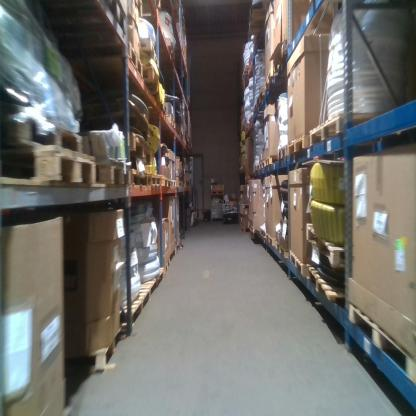pallet: (348, 301, 415, 384), (18, 145, 97, 185), (67, 326, 122, 374), (309, 111, 382, 146), (15, 117, 83, 152), (307, 264, 345, 306), (128, 272, 159, 323), (306, 222, 343, 261), (122, 129, 153, 161), (142, 65, 163, 106), (127, 39, 145, 82), (96, 159, 124, 186), (139, 36, 160, 65), (123, 164, 148, 186), (287, 134, 310, 156), (290, 249, 308, 277), (266, 63, 284, 91), (159, 258, 171, 281), (276, 240, 289, 260), (165, 37, 175, 61), (164, 114, 176, 130), (258, 89, 267, 108), (149, 173, 162, 186), (277, 145, 287, 160), (264, 156, 277, 167), (266, 233, 276, 246), (161, 175, 170, 189), (170, 246, 177, 263), (253, 97, 260, 114), (249, 224, 260, 234), (240, 224, 250, 233), (259, 226, 266, 238), (239, 203, 250, 210), (211, 189, 224, 194), (259, 160, 265, 170), (170, 178, 175, 188)
